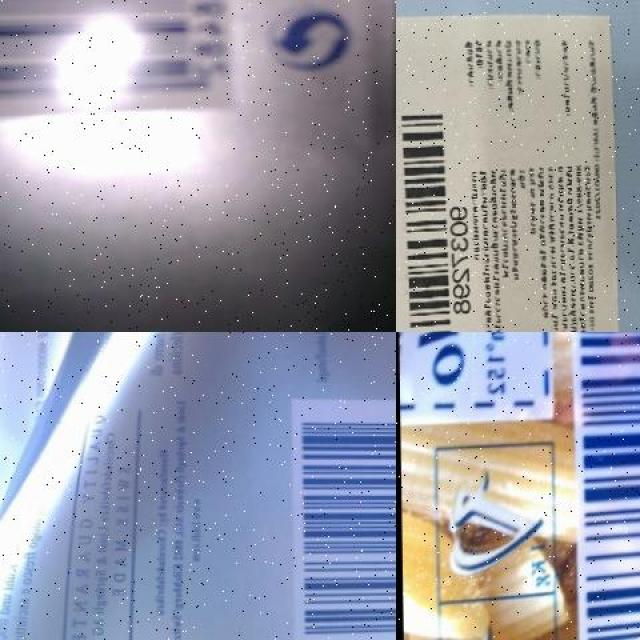Barcode: (288, 397, 396, 640), (0, 0, 220, 119), (565, 332, 640, 640), (396, 96, 473, 332)
